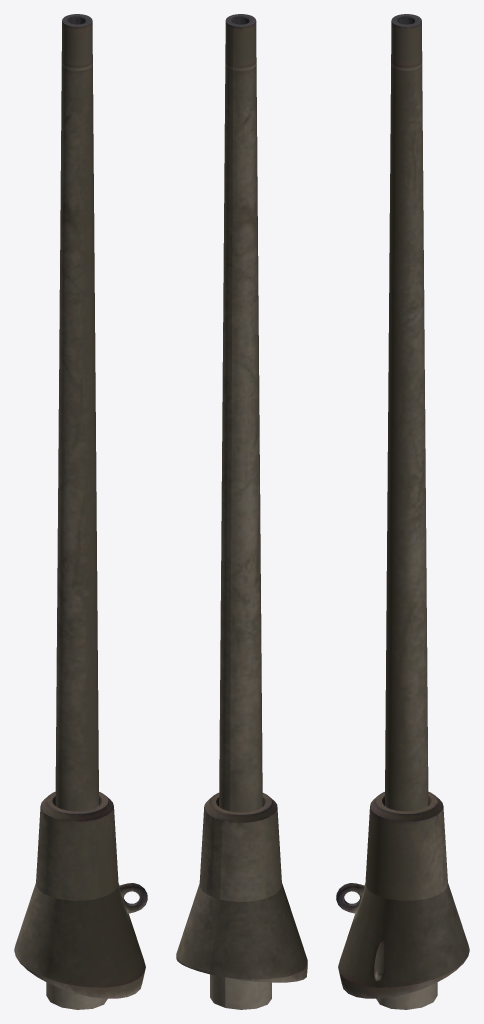
Rendered from Gun_06.glb.
3 renders of one model, left to right at view 1: azimuth 90°, elevation 25°; view 2: azimuth 150°, elevation 25°; view 3: azimuth 270°, elevation 25°, orthographic.
Parts seen in each view (by area): view 1: set_0_group_0; view 2: set_0_group_0; view 3: set_0_group_0.
Boxes of the visible parts, left/top/right/bottom form: set_0_group_0: left=14, top=14, right=147, bottom=1009; set_0_group_0: left=176, top=14, right=307, bottom=1009; set_0_group_0: left=336, top=14, right=469, bottom=1009.
Bounding box in the file's own units: 0.637 × 5.22 × 0.6474.
Materials: 1 (1 with a texture image).
